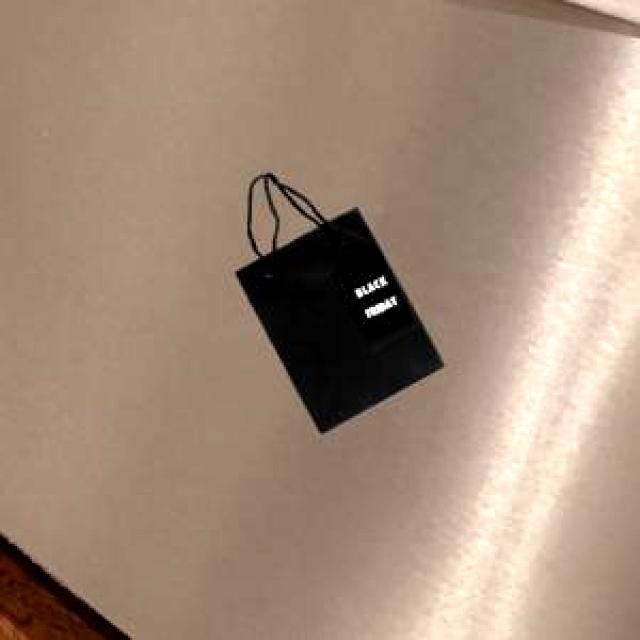Paper_Bag: (232, 169, 440, 430)
